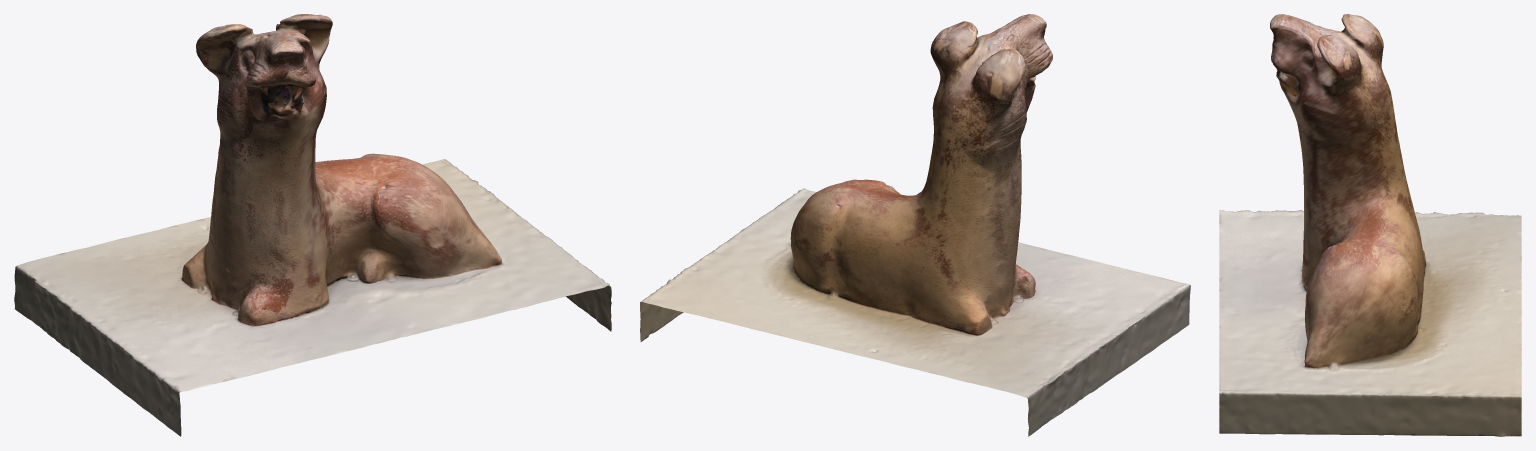
The model's file is BetterDog.obj.
3 views of the same model, side by side, from view 1: azimuth 30°, elevation 25°; view 2: azimuth 150°, elevation 25°; view 3: azimuth 270°, elevation 25° (orthographic). The views are drawn at different scales.
Parts seen in each view (by area): view 1: Dog; view 2: Dog; view 3: Dog.
Part boxes in pixels (left/top/right/bottom): Dog: left=14, top=14, right=611, bottom=436; Dog: left=640, top=14, right=1190, bottom=436; Dog: left=1219, top=14, right=1521, bottom=436.
Size of the model in its own units: 0.4571 by 0.333 by 0.3105.
1 material, 1 textured.
